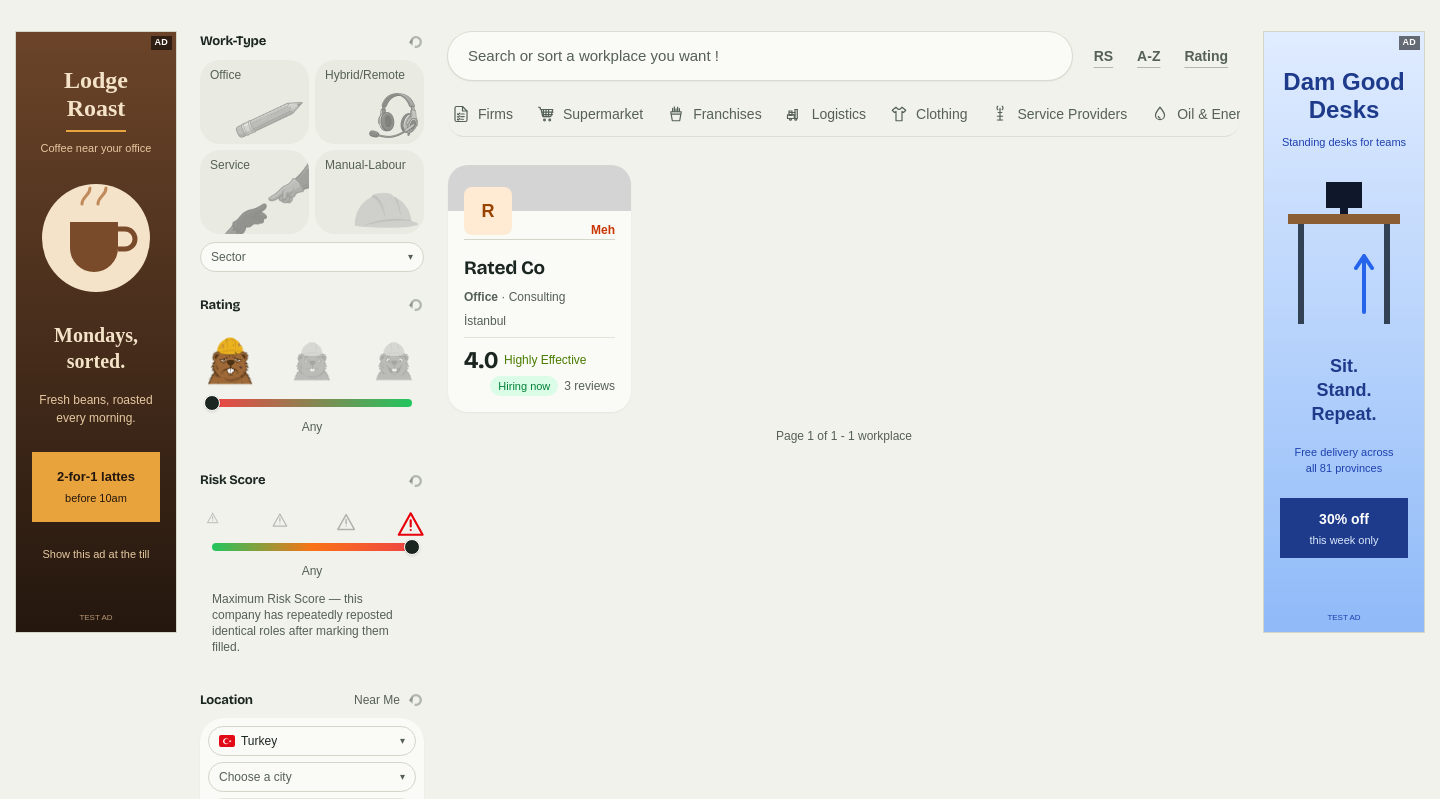
Test: opens on rated workplaces only, and A-Z brings unreviewed ones in after them
This screenshot has width=1440, height=799.
Expected: the heading "Rated Co" is shown, [464, 256, 545, 279]
Expected: the text "Empty Co" is not shown
Click the button "A-Z" at (1149, 56), box [1125, 32, 1172, 80]
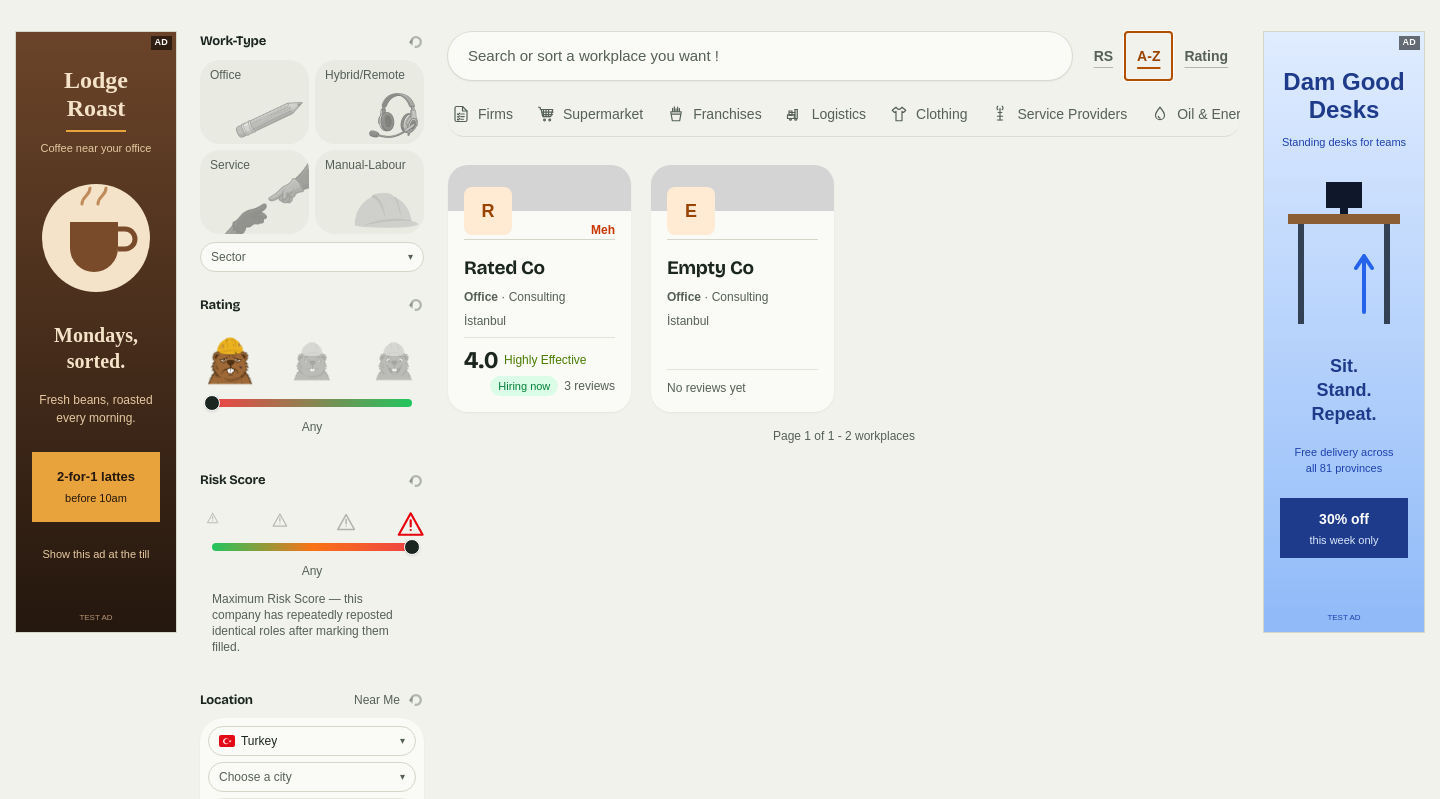
Result: the heading "Empty Co" is shown at [667, 256, 754, 279]
